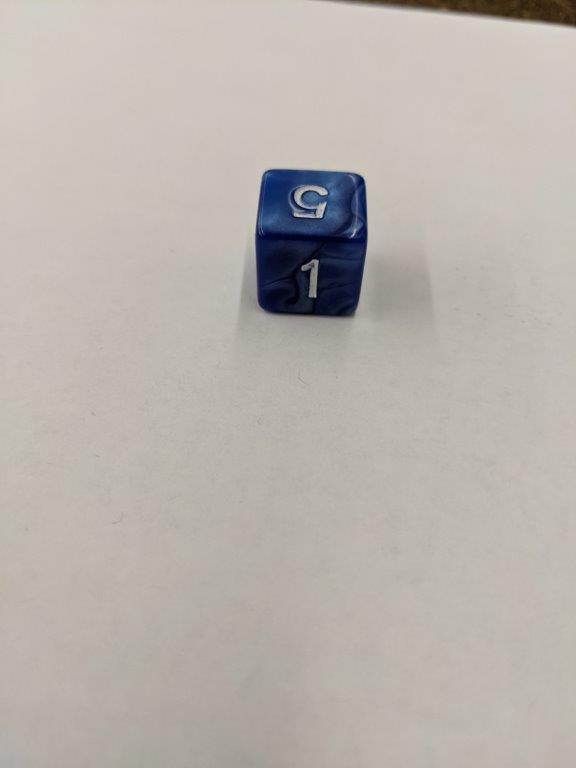d6-5: (253, 168, 370, 316)
